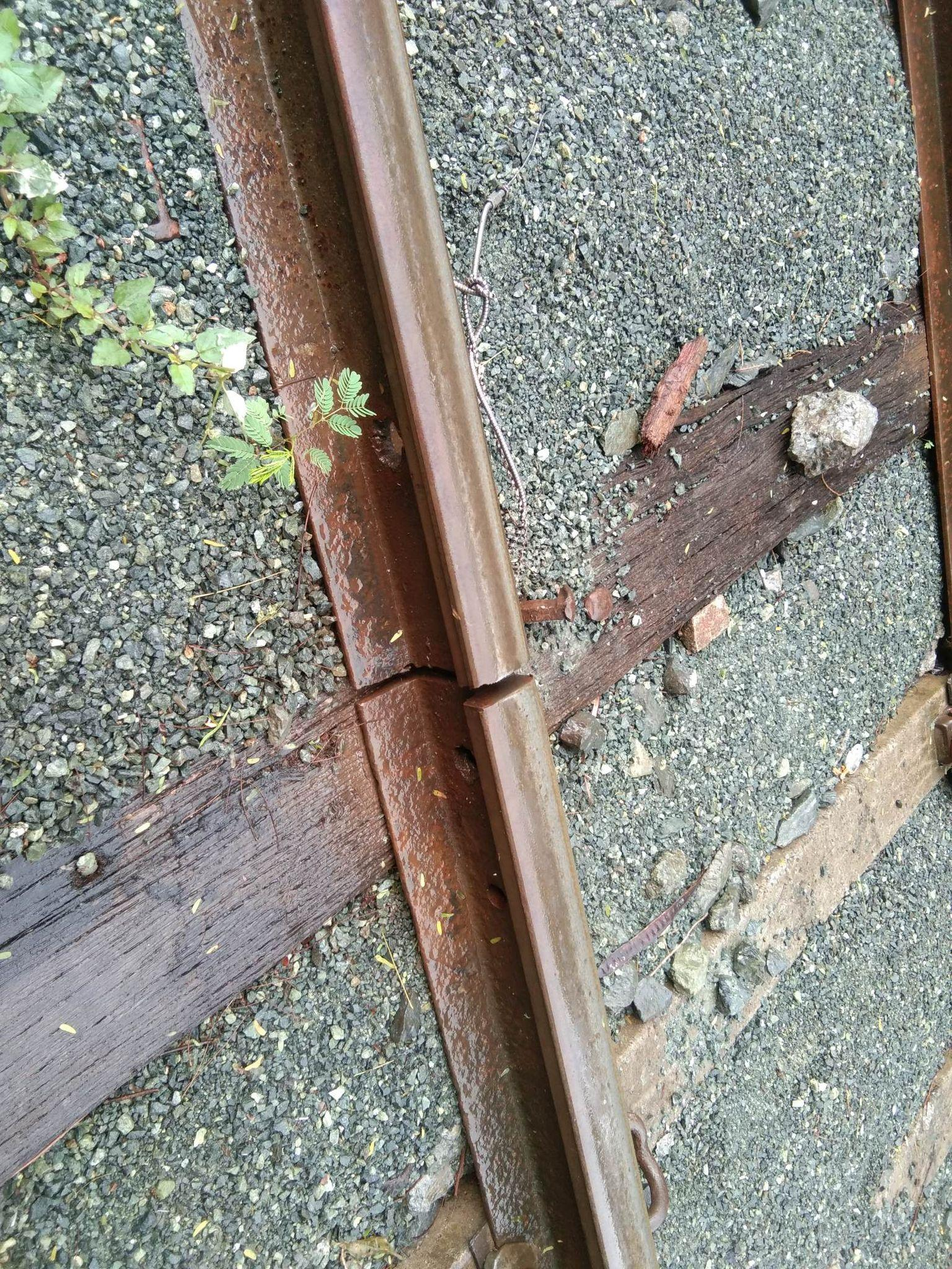railway-gap: (442, 628, 550, 757)
